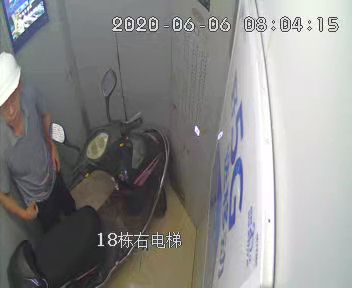Electric-bicycle: (8, 68, 168, 288)
